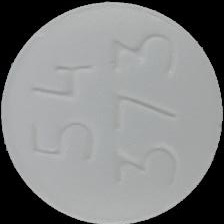0054-0221: (0, 0, 224, 224)
